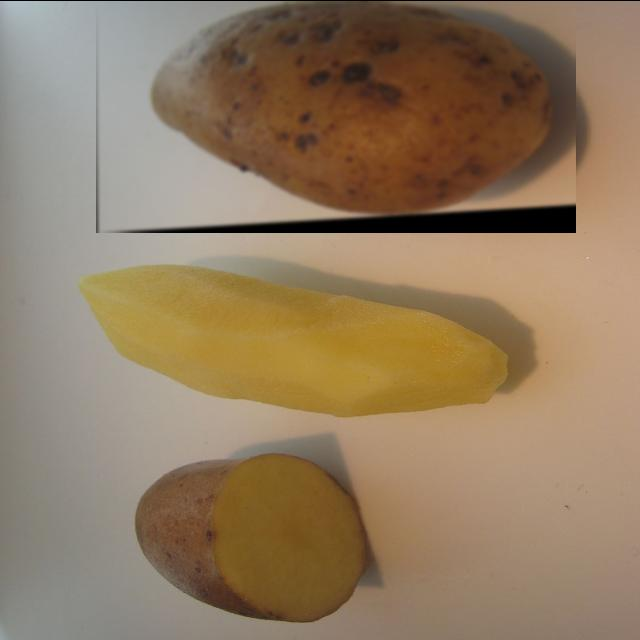potato: (96, 0, 576, 232)
